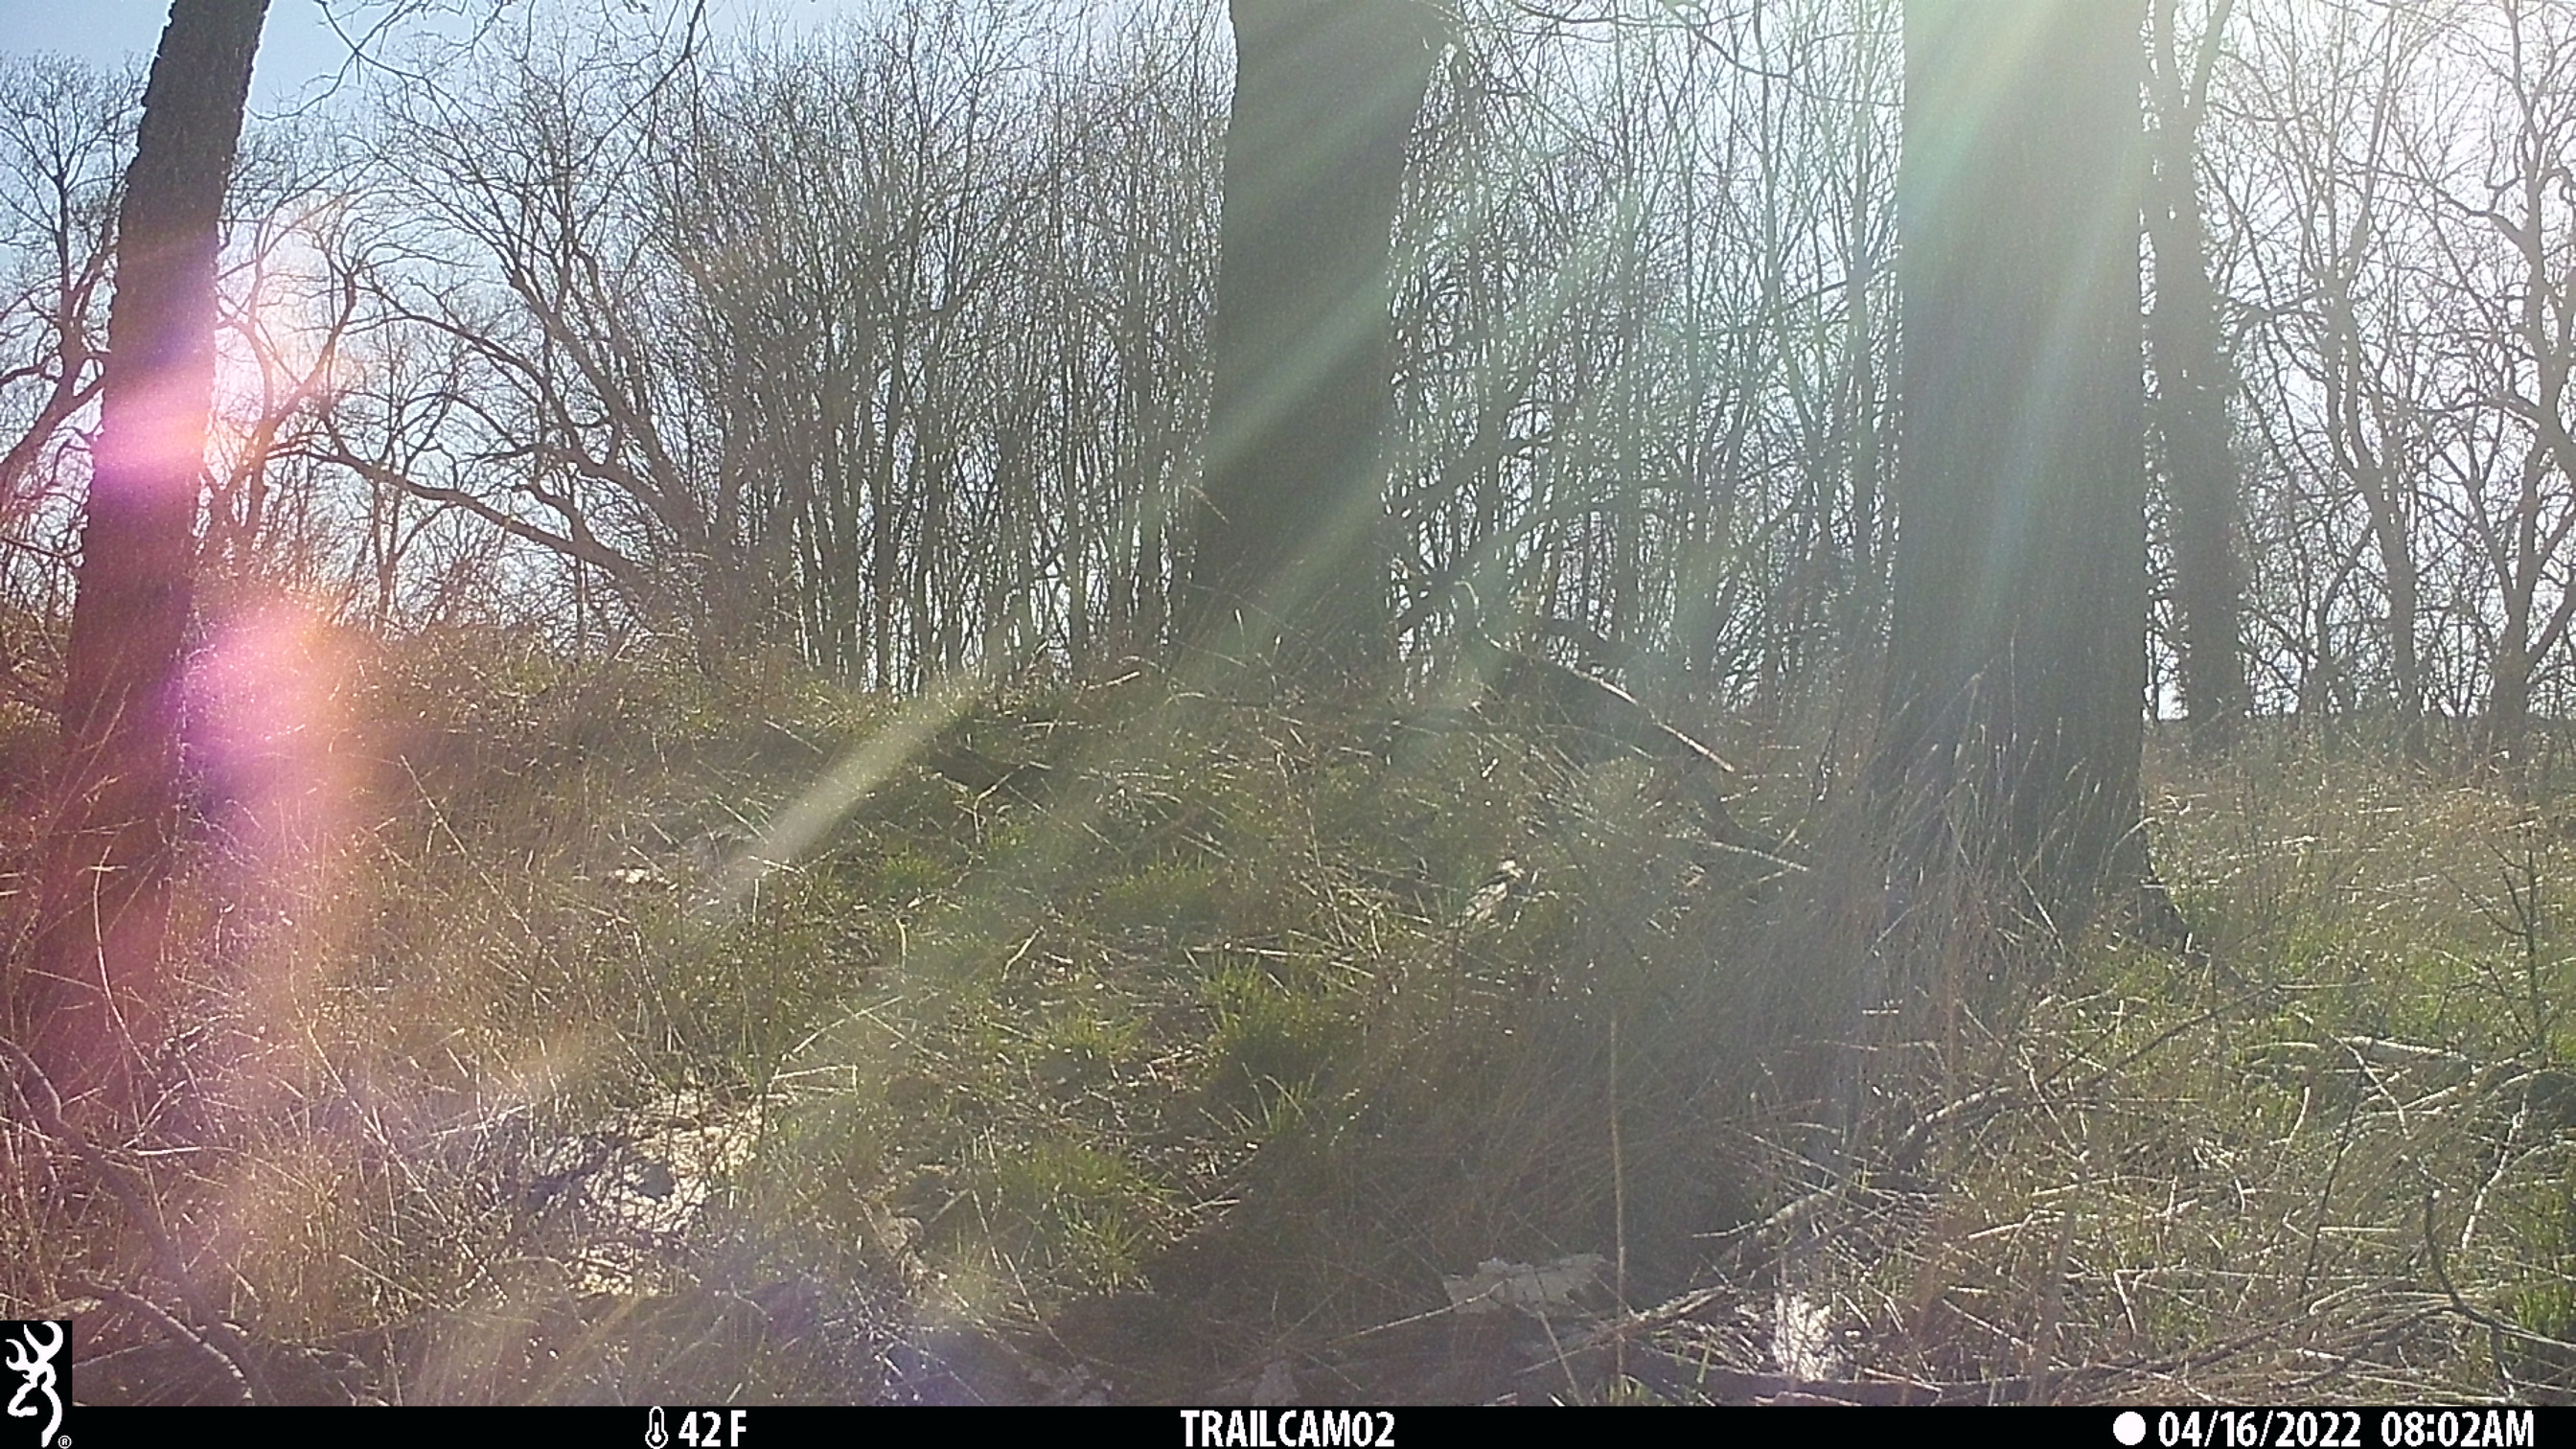Turkey: (1442, 577, 1743, 780)
